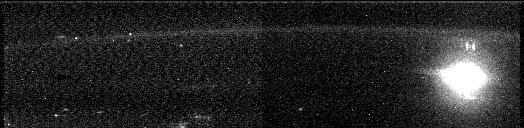positive: (461, 38, 481, 57)
